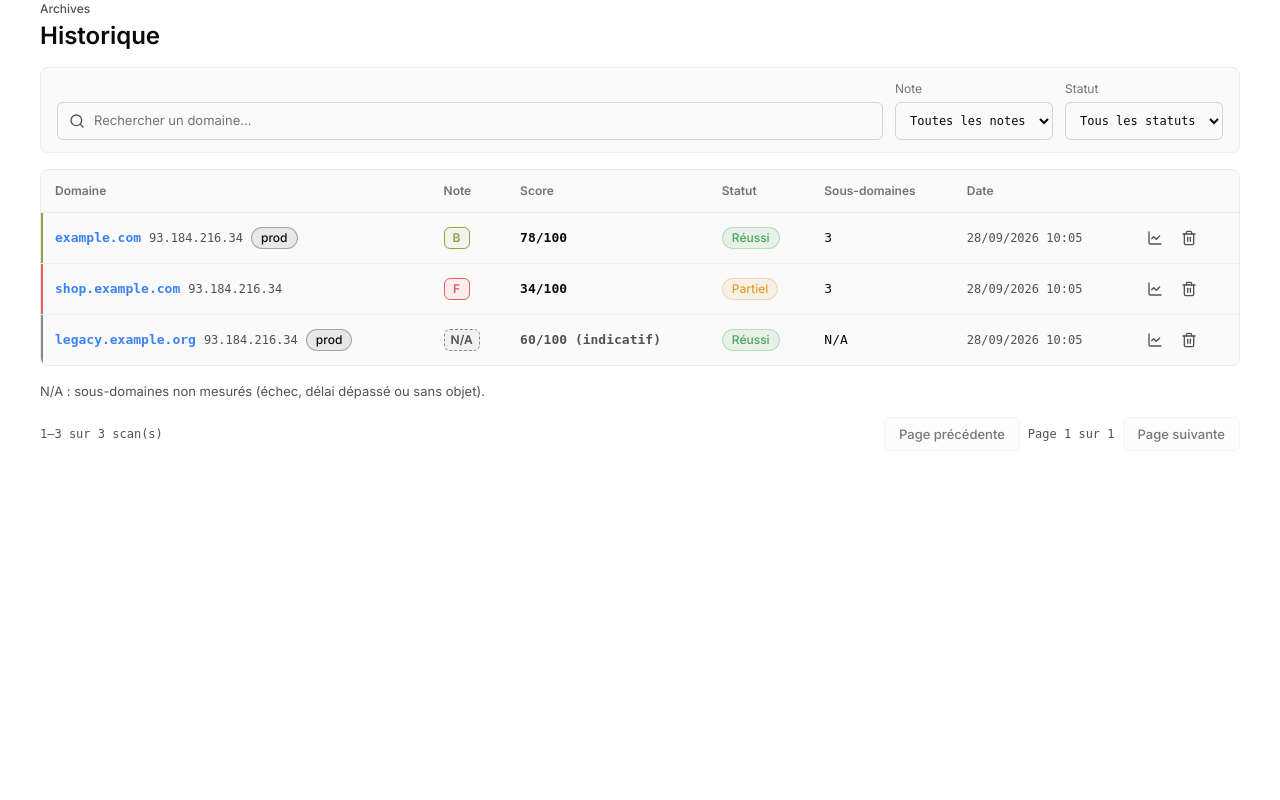
Scenario: écran Historique › le titre reste focalisable par programme : le focus lui revient après une suppression (tabindex posé à ce moment)
Click the button named "Supprimer le scan de example.com".
click(1189, 238)  # box x1=1172 y1=223 x2=1206 y2=253
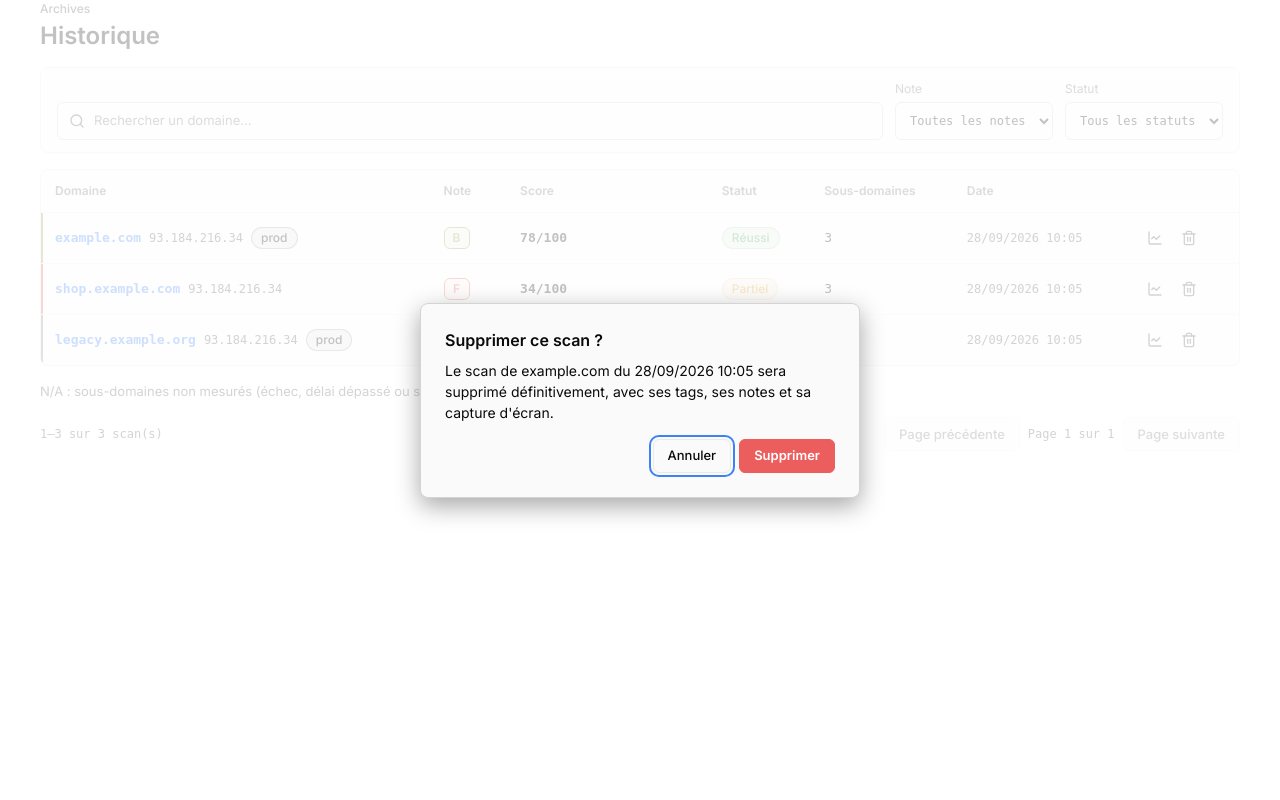
Click the button "Supprimer".
click(787, 456)  # box x1=739 y1=438 x2=835 y2=472
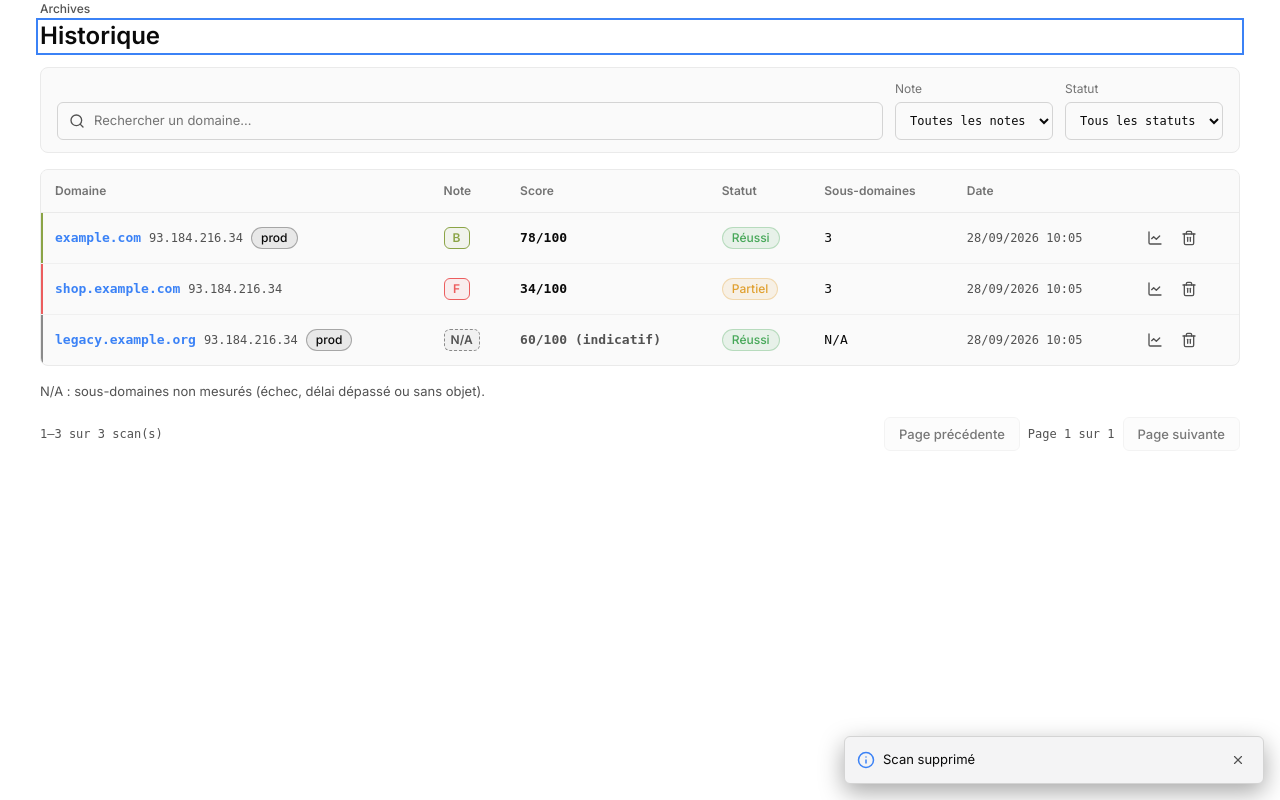
Expected: the text "Scan supprimé" is shown, x1=883 y1=751 x2=975 y2=767
